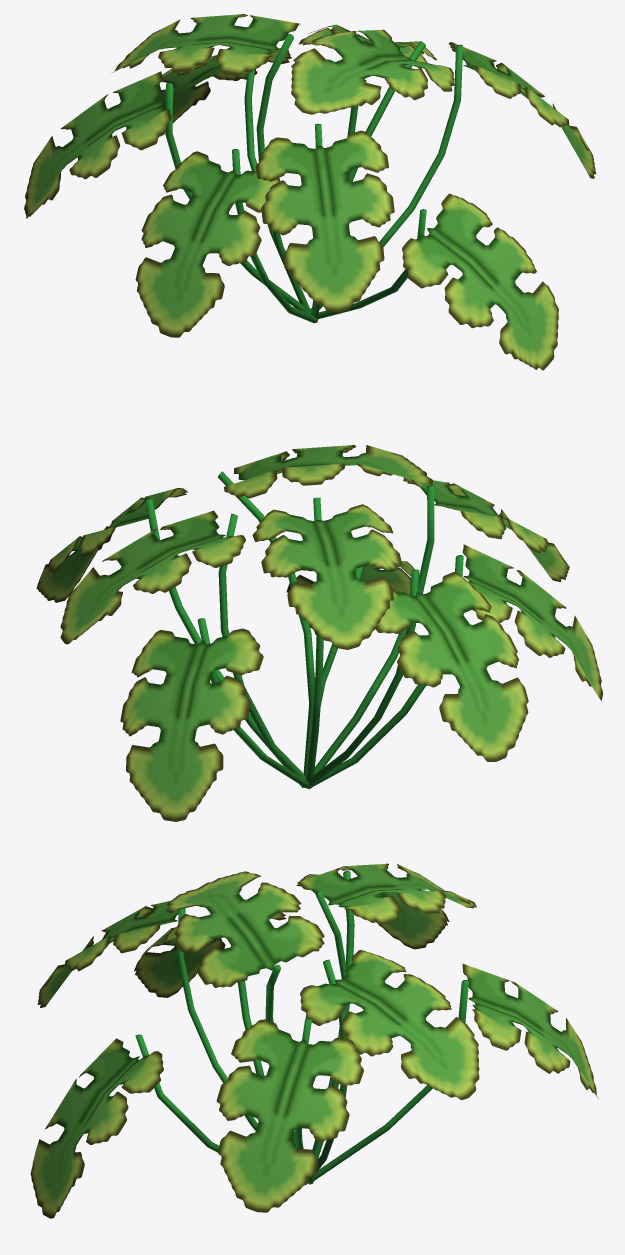
The model's file is Prop_Arbusto3.fbx.
3 renders of one model, top to bottom at view 1: azimuth 30°, elevation 25°; view 2: azimuth 150°, elevation 25°; view 3: azimuth 270°, elevation 25°, orthographic. The views are drawn at different scales.
Visible parts, largest first — view 1: Hoja_Palmera1.041; view 2: Hoja_Palmera1.041; view 3: Hoja_Palmera1.041.
Boxes of the visible parts, x1,y1,x2,y2 form: Hoja_Palmera1.041: (24,14,596,370); Hoja_Palmera1.041: (36,445,602,821); Hoja_Palmera1.041: (30,863,598,1218).
Bounding box in the file's own units: 2.27 × 1.24 × 2.21.
